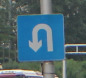u_turn: (17, 14, 65, 61)
